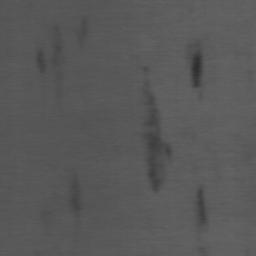Iron scale compression: (142, 68, 170, 193), (198, 186, 210, 256), (192, 41, 204, 99), (55, 27, 63, 84), (72, 172, 80, 225), (36, 48, 45, 73)
